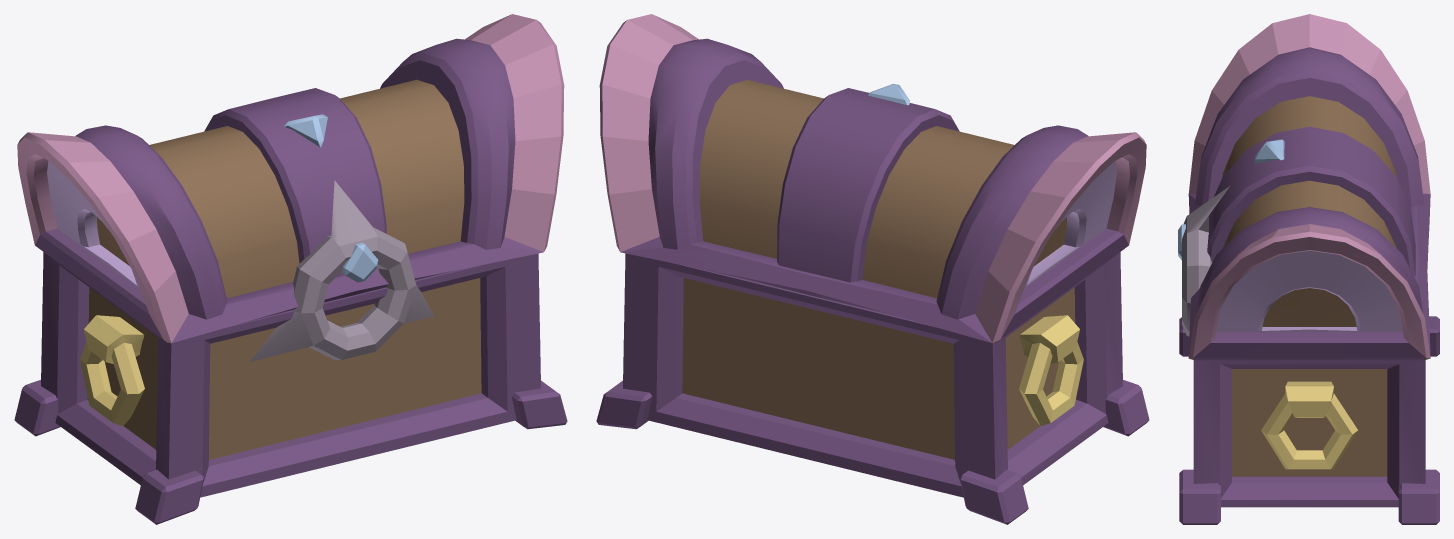
The model's file is Crate FBX.fbx.
The picture shows the model from 3 angles, left to right: view 1: azimuth 30°, elevation 25°; view 2: azimuth 150°, elevation 25°; view 3: azimuth 270°, elevation 25°; orthographic projection. The views are drawn at different scales.
Parts seen in each view (by area): view 1: polySurface5, polySurface3, polySurface6, polySurface1, polySurface9, polySurface10, polySurface8, polySurface2, polySurface12; view 2: polySurface5, polySurface3, polySurface1, polySurface8, polySurface11, polySurface9; view 3: polySurface5, polySurface3, polySurface7, polySurface6, polySurface11, polySurface10, polySurface12, polySurface8.
Boxes of the visible parts, x1=… form: polySurface5: x1=17, y1=14, x2=564, y2=343; polySurface3: x1=41, y1=252, x2=540, y2=497; polySurface6: x1=250, y1=180, x2=433, y2=361; polySurface1: x1=80, y1=315, x2=144, y2=425; polySurface9: x1=135, y1=469, x2=204, y2=524; polySurface10: x1=511, y1=380, x2=567, y2=429; polySurface8: x1=14, y1=380, x2=60, y2=436; polySurface2: x1=342, y1=242, x2=378, y2=282; polySurface12: x1=284, y1=114, x2=327, y2=147; polySurface5: x1=599, y1=14, x2=1146, y2=343; polySurface3: x1=623, y1=252, x2=1122, y2=497; polySurface1: x1=1019, y1=315, x2=1083, y2=425; polySurface8: x1=959, y1=469, x2=1028, y2=524; polySurface11: x1=596, y1=380, x2=652, y2=429; polySurface9: x1=1103, y1=380, x2=1149, y2=436; polySurface5: x1=1188, y1=14, x2=1430, y2=360; polySurface3: x1=1193, y1=360, x2=1425, y2=507; polySurface7: x1=1261, y1=381, x2=1357, y2=469; polySurface6: x1=1182, y1=185, x2=1230, y2=336; polySurface11: x1=1398, y1=469, x2=1439, y2=524; polySurface10: x1=1179, y1=469, x2=1220, y2=524; polySurface12: x1=1254, y1=139, x2=1284, y2=163; polySurface8: x1=1429, y1=316, x2=1439, y2=356.
Size of the model in its own units: 2.26 by 1.48 by 1.13.
